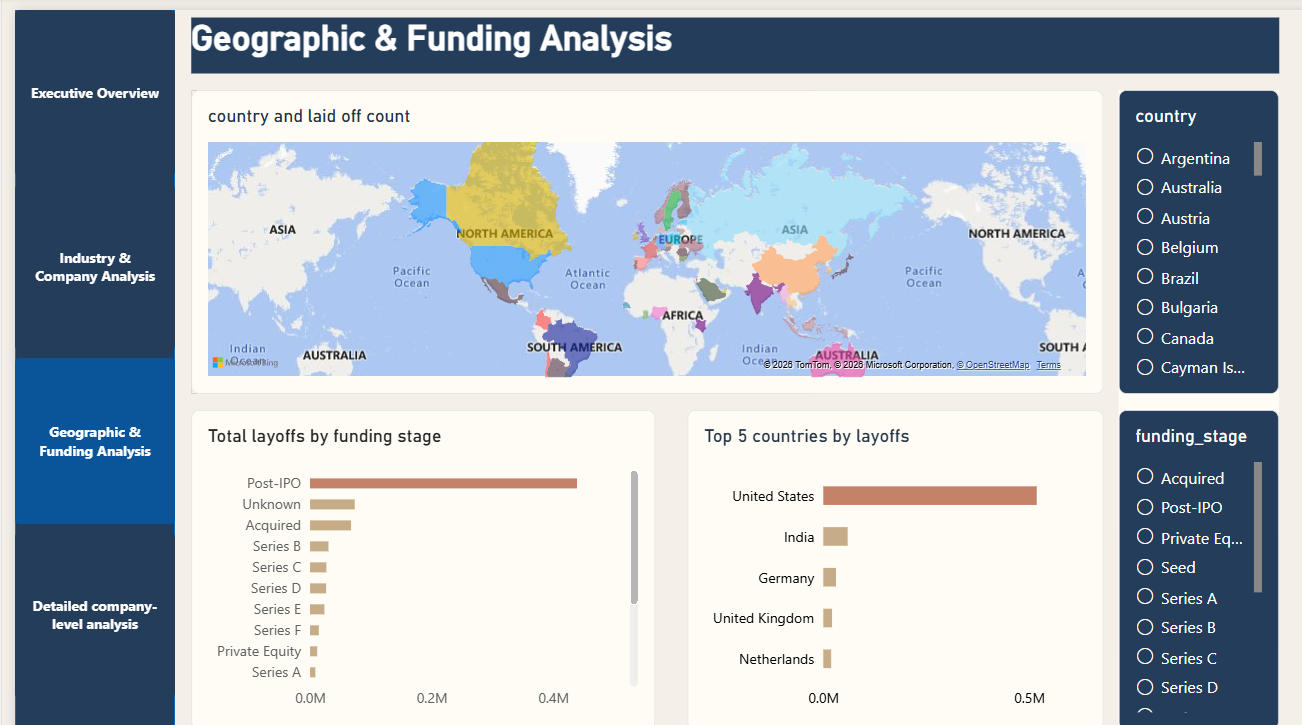

The page's visual inventory and layout, read from the dashboard file:
{"tool":"powerbi","page":{"name":"Geographic & Funding Analysis ","canvas":[1920,1080],"ordinal":2},"visuals":[{"type":"shape","box":[0,0,160,720],"z":0},{"type":"shape","title":"Geographic & Funding Analysis ","box":[176,8,1088,56],"z":1000},{"type":"shape","box":[176,80,624,304],"z":2000},{"type":"filledMap","title":"country and laid off count","fields":{"Category":["layoffs_country_summary.country"],"Series":["layoffs_events.laid_off_count"]},"box":[176,80,912,304],"z":3000},{"type":"clusteredBarChart","title":"Top 5 countries by layoffs ","fields":{"Category":["layoffs_country_summary.country"],"Y":["layoffs_events.Total layoffs"]},"box":[672,400,416,320],"z":4000},{"type":"clusteredBarChart","title":"Total layoffs by funding stage","fields":{"Category":["layoffs_events.funding_stage"],"Y":["layoffs_events.Total layoffs"]},"box":[176,400,464,320],"z":5000},{"type":"shape","box":[1104,80,160,640],"z":6000},{"type":"listSlicer","fields":{"Values":["layoffs_country_summary.country"]},"box":[1104,80,160,304],"z":7000},{"type":"listSlicer","box":[1104,400,160,320],"z":8000},{"type":"listSlicer","fields":{"Values":["layoffs_events.funding_stage"]},"box":[1104,400,160,320],"z":9000},{"type":"pageNavigator","box":[0,0,160,688],"z":10000}]}

Visuals, with their boxes on the page's 1920x1080 design canvas (x1, y1, x2, y2). These are canvas units, not pixel positions in the 1302x725 screenshot, which may show the page scaled, cropped or inside an application window:
shape: x1=0 y1=0 x2=160 y2=720
"Geographic & Funding Analysis " shape: x1=176 y1=8 x2=1264 y2=64
shape: x1=176 y1=80 x2=800 y2=384
"country and laid off count" filledMap: x1=176 y1=80 x2=1088 y2=384
"Top 5 countries by layoffs " clusteredBarChart: x1=672 y1=400 x2=1088 y2=720
"Total layoffs by funding stage" clusteredBarChart: x1=176 y1=400 x2=640 y2=720
shape: x1=1104 y1=80 x2=1264 y2=720
listSlicer - layoffs_country_summary.country: x1=1104 y1=80 x2=1264 y2=384
listSlicer: x1=1104 y1=400 x2=1264 y2=720
listSlicer - layoffs_events.funding_stage: x1=1104 y1=400 x2=1264 y2=720
pageNavigator: x1=0 y1=0 x2=160 y2=688
